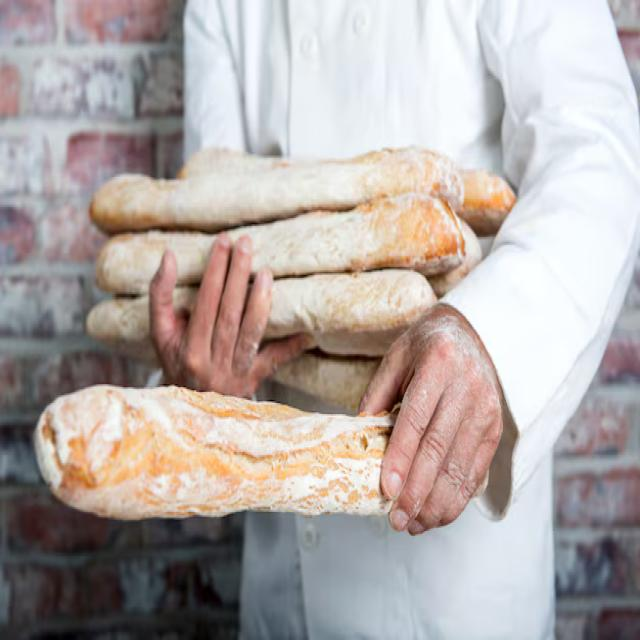Baguette: (33, 383, 380, 523)
